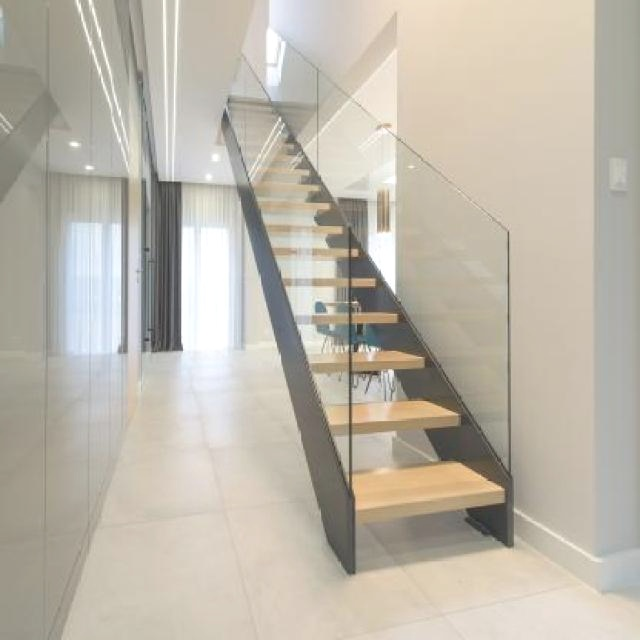stair: (216, 77, 522, 561)
